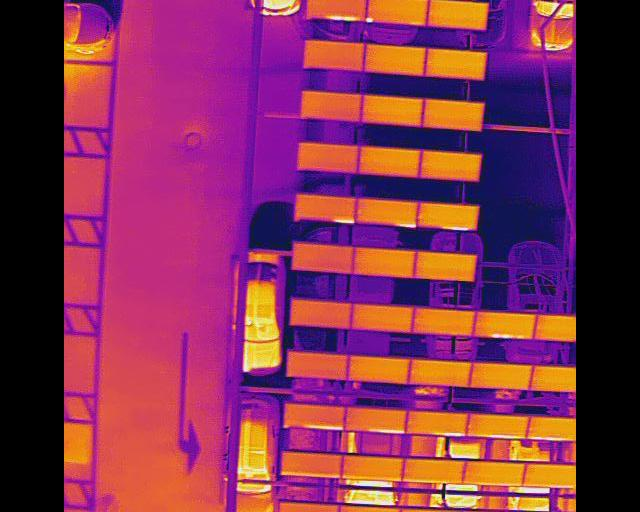Cell: (368, 0, 428, 24)
No-Anomaly: (359, 146, 422, 176), (293, 242, 355, 271), (356, 197, 418, 226), (355, 246, 414, 276), (298, 143, 359, 172), (415, 252, 478, 280), (296, 192, 356, 221), (302, 91, 362, 120), (362, 96, 425, 123), (421, 151, 481, 179), (425, 49, 486, 76), (365, 45, 426, 72), (428, 0, 488, 27), (304, 42, 365, 68), (424, 100, 482, 127), (292, 301, 352, 327), (342, 454, 404, 479), (352, 305, 414, 330), (288, 351, 347, 377), (404, 456, 465, 481), (418, 204, 479, 229), (281, 450, 342, 475), (347, 356, 408, 381), (413, 308, 476, 332), (464, 460, 524, 484), (410, 361, 472, 384), (471, 364, 535, 386), (338, 504, 399, 512), (400, 506, 461, 512)
Unclassified: (345, 406, 407, 431), (474, 313, 535, 337), (285, 404, 346, 428), (407, 411, 470, 434), (468, 414, 528, 437), (307, 0, 367, 18), (279, 501, 339, 512)
